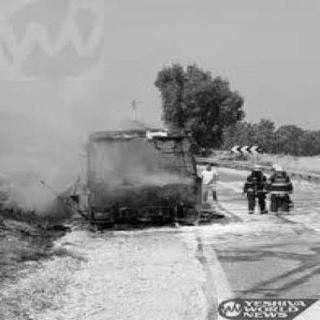Smoke: (10, 17, 196, 204)
